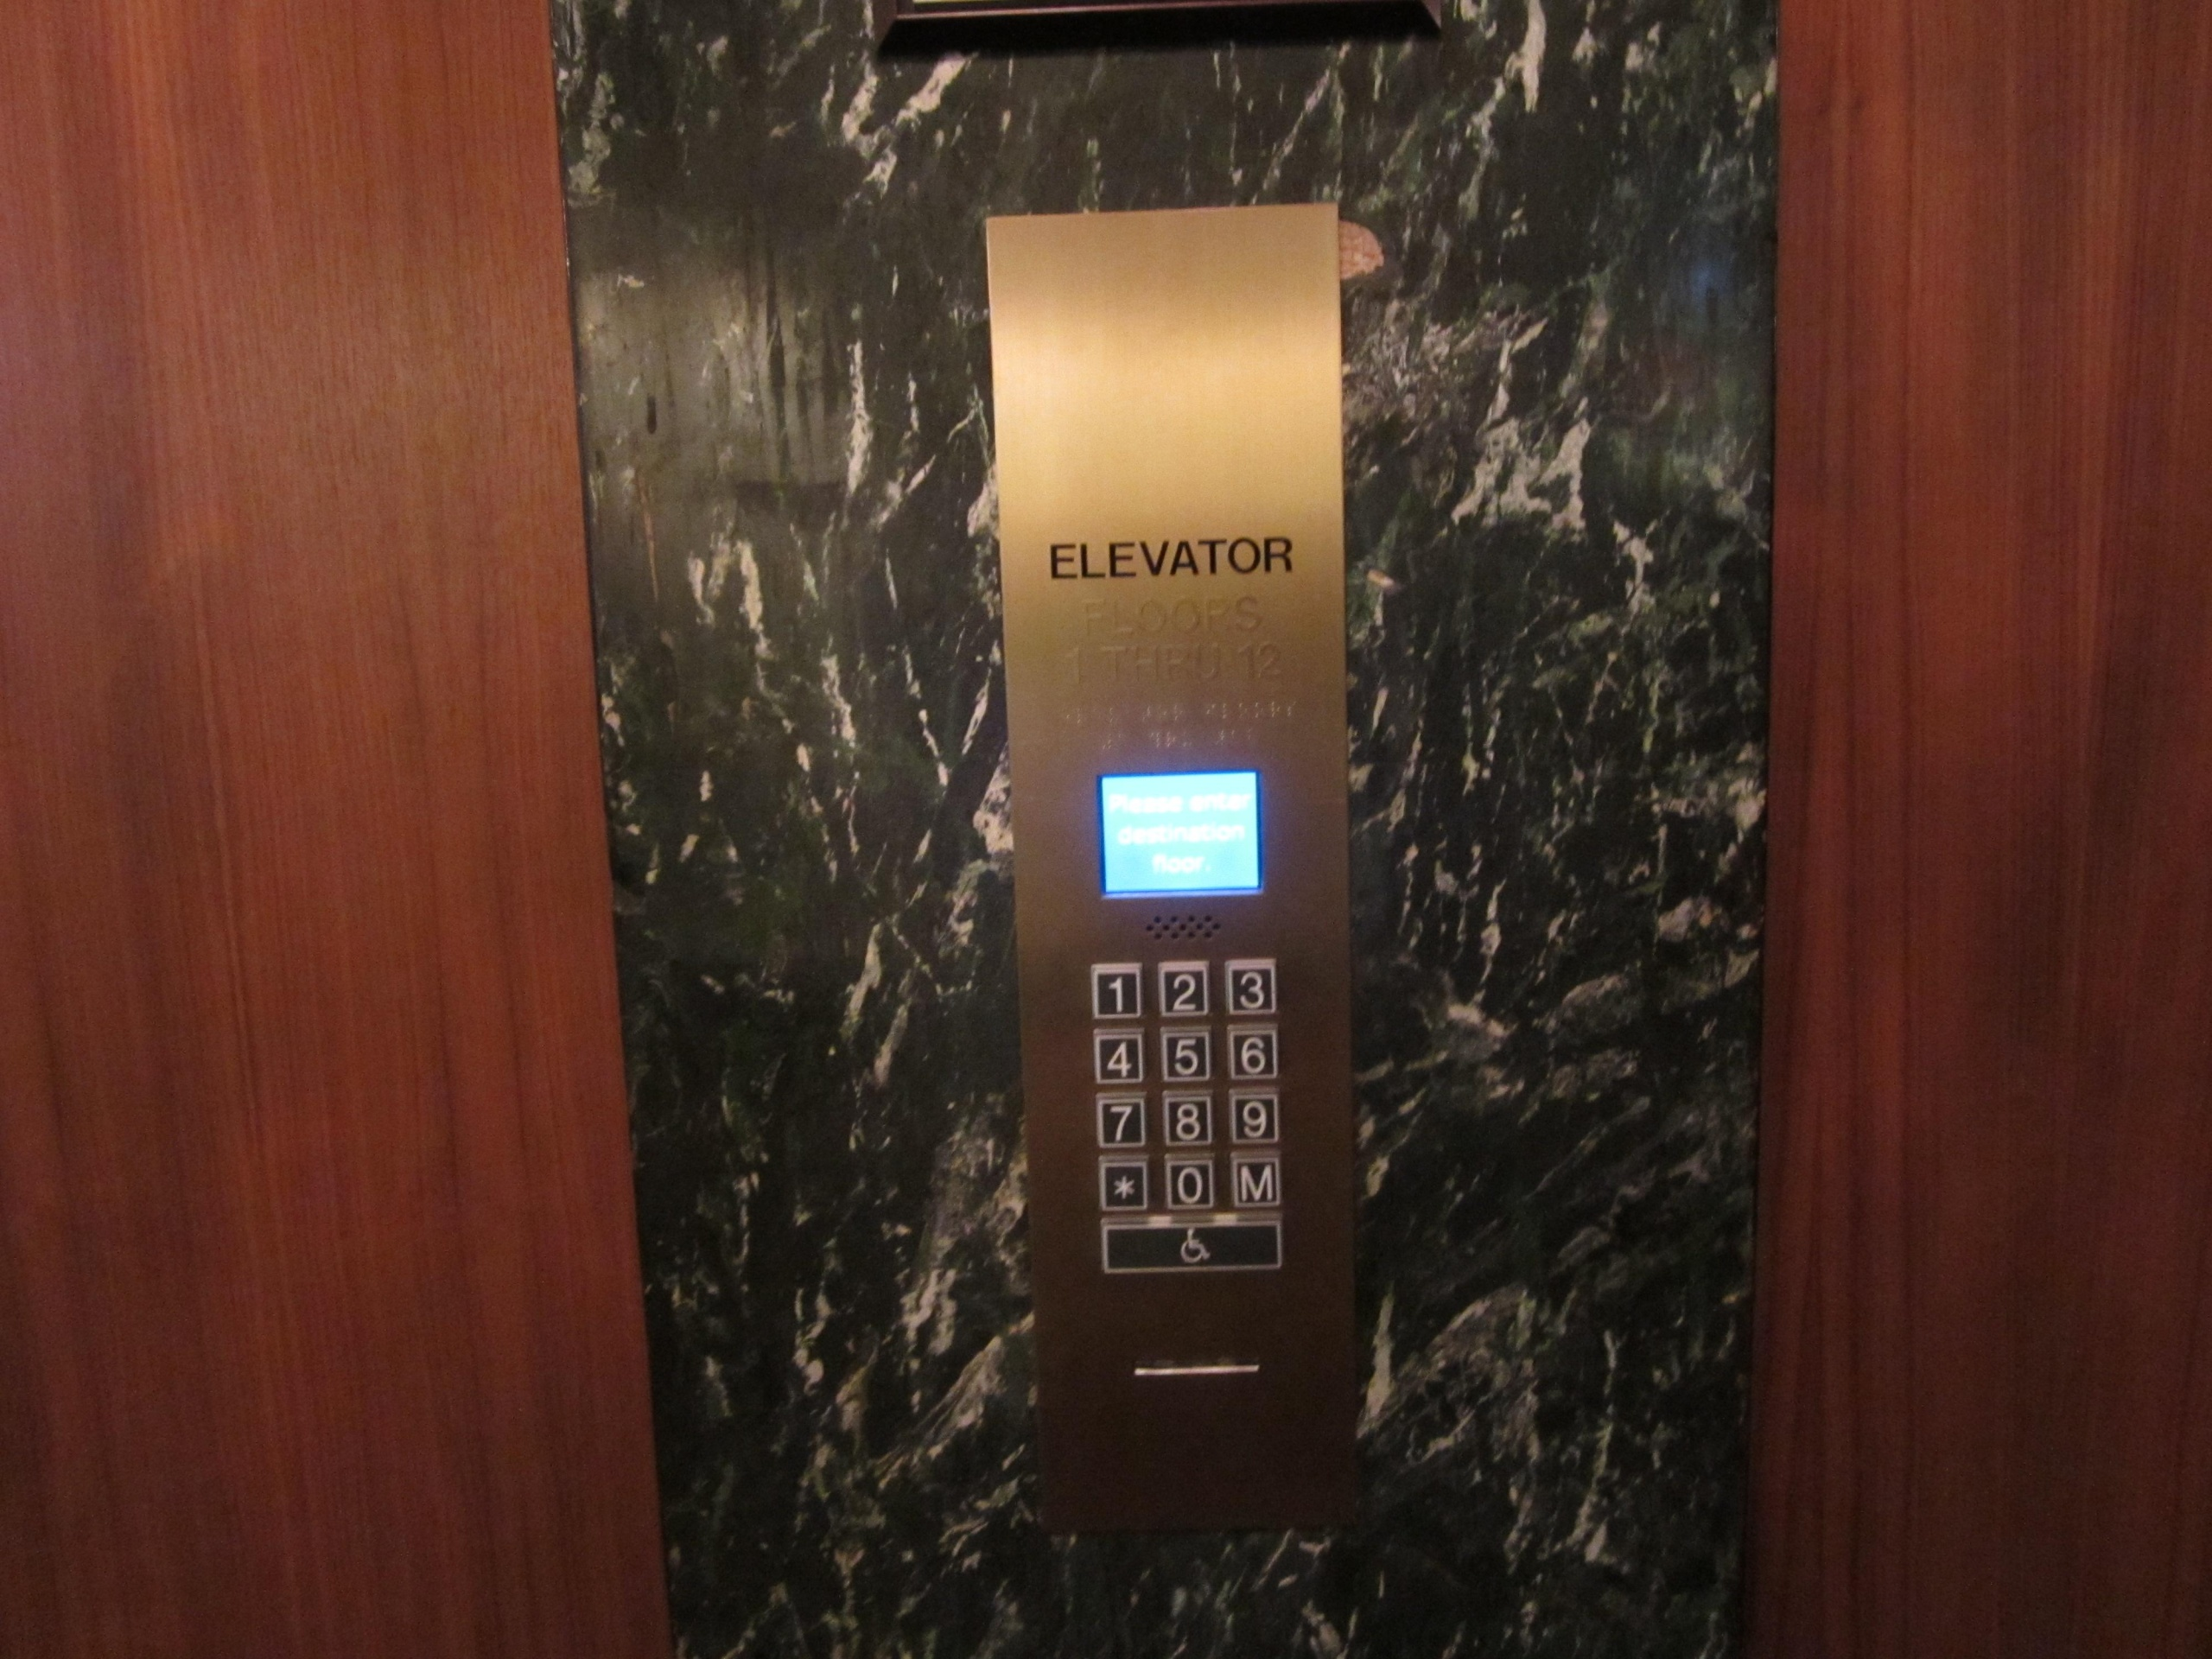0: (1162, 1152, 1216, 1211)
1: (1092, 962, 1144, 1023)
2: (1158, 960, 1211, 1018)
3: (1223, 958, 1278, 1019)
4: (1094, 1028, 1146, 1084)
5: (1158, 1026, 1212, 1086)
6: (1224, 1023, 1280, 1082), (1163, 1089, 1214, 1147)
7: (1094, 1093, 1146, 1148)
9: (1228, 1086, 1280, 1147)
CH: (1103, 1216, 1284, 1274)
M: (1228, 1152, 1282, 1208)
led: (1092, 767, 1268, 899)
s: (1097, 1154, 1150, 1213)
